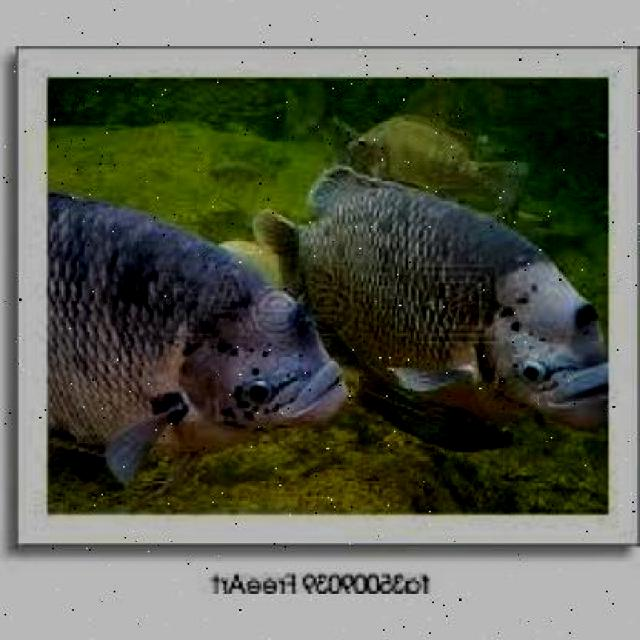gurame: (270, 168, 606, 438), (51, 186, 342, 477)
